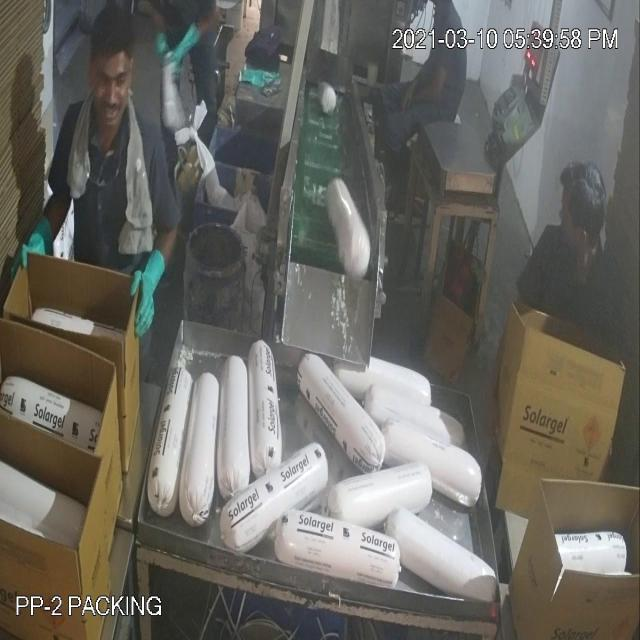gloves: (112, 230, 170, 342), (8, 207, 56, 293)
no-gloves: (480, 324, 511, 449), (396, 58, 456, 110)
